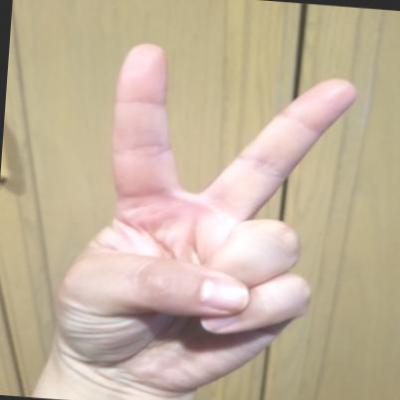hand: (38, 31, 373, 399)
